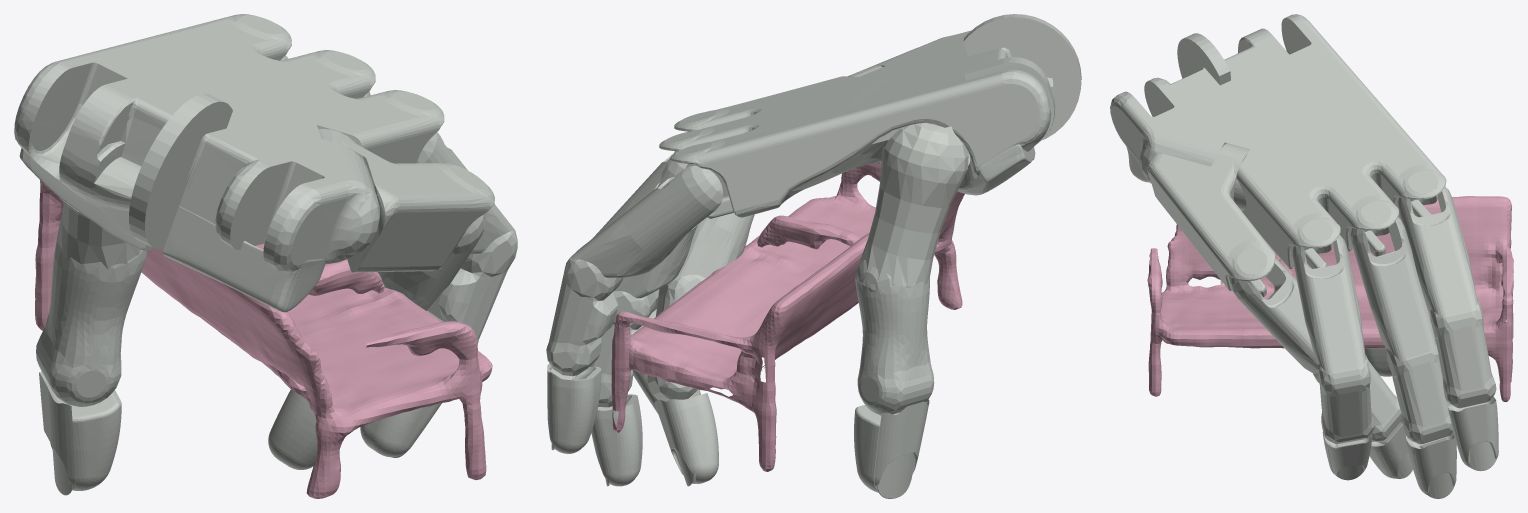
3 renders of one model, left to right at view 1: azimuth 30°, elevation 25°; view 2: azimuth 150°, elevation 25°; view 3: azimuth 270°, elevation 25°, orthographic. The views are drawn at different scales.
Visible parts, largest first — view 1: hand_isaac_q, world; view 2: hand_isaac_q, world; view 3: hand_isaac_q, world.
Part boxes in pixels (bbox=[...]): hand_isaac_q: bbox=[14, 14, 517, 495]; world: bbox=[35, 180, 492, 498]; hand_isaac_q: bbox=[546, 14, 1081, 498]; world: bbox=[611, 161, 964, 471]; hand_isaac_q: bbox=[1110, 14, 1498, 498]; world: bbox=[1147, 196, 1513, 401].
Bounding box in the file's own units: 0.1464 × 0.1409 × 0.1445.
